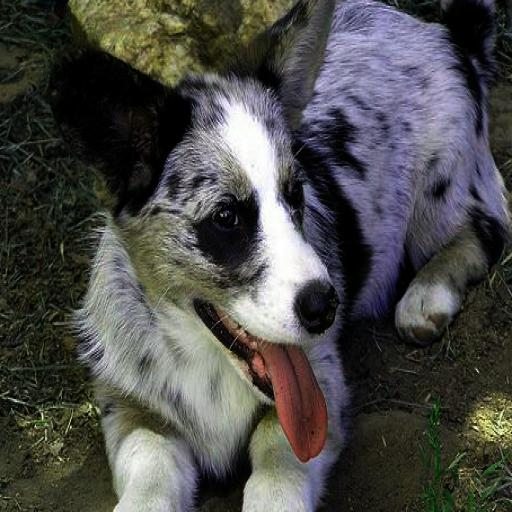dog_face: (68, 0, 338, 417)
